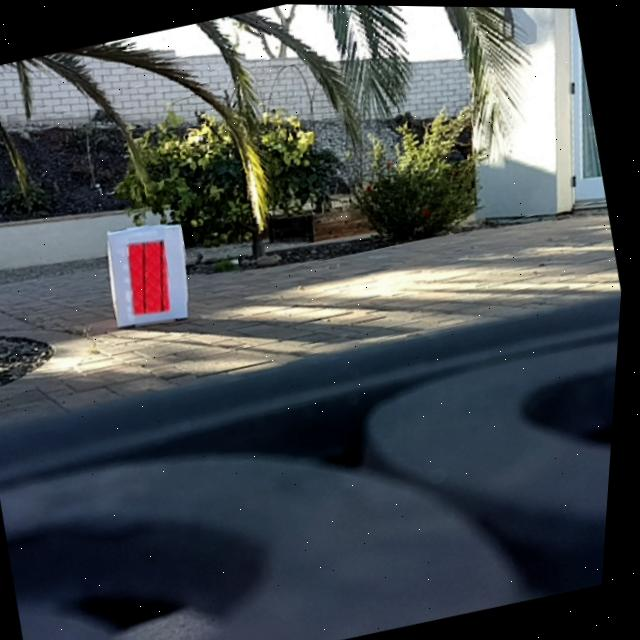led: (120, 232, 184, 320)
